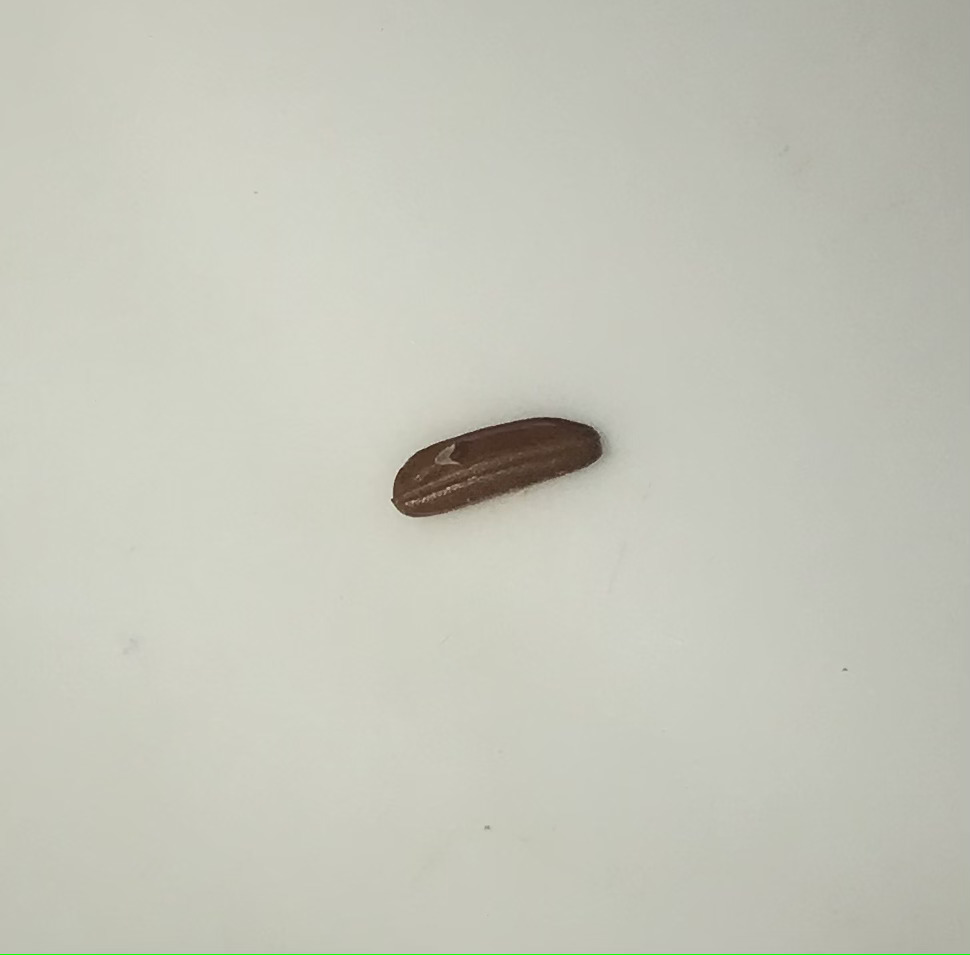Gao Huyet Rong: (389, 415, 612, 518)
